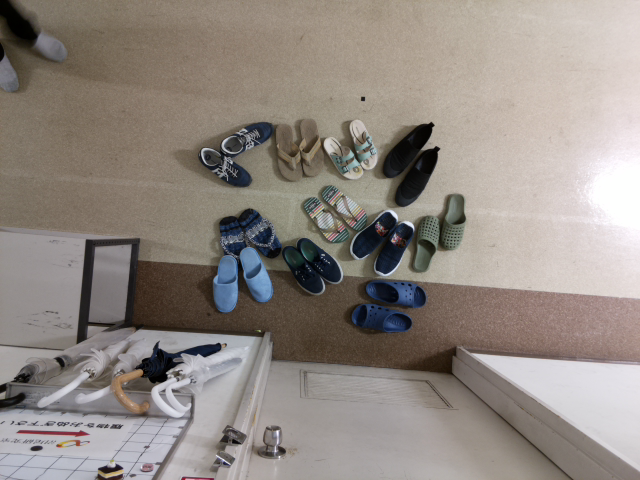Copy of Copy of Copy of Copy of Copy of Copy of Copy of Copy of Copy of Copy of: (346, 206, 399, 260), (281, 244, 329, 299), (234, 207, 284, 259), (371, 218, 415, 277), (297, 234, 344, 289), (302, 194, 352, 245), (318, 182, 367, 233), (362, 277, 429, 312), (348, 301, 415, 336), (238, 244, 275, 307), (207, 252, 243, 314), (214, 214, 251, 260)
Copy of Copy of Copy of Copy of Copy of Copy of Copy of Copy of Copy of shoe: (406, 214, 442, 276)
Copy of Copy of Copy of Copy of Copy of Copy of Copy of Copy of shoe: (434, 191, 470, 254)
Copy of Copy of Copy of Copy of Copy of Copy of Copy of shoe: (391, 143, 440, 210)
Copy of Copy of Copy of Copy of Copy of Copy of shoe: (380, 120, 436, 180)
Copy of Copy of Copy of Copy of Copy of shoe: (322, 134, 364, 180)
Copy of Copy of Copy of Copy of shoe: (347, 117, 381, 173)
Copy of Copy of Copy of shoe: (293, 114, 328, 182)
Copy of Copy of shoe: (271, 119, 305, 187)
Copy of foot: (6, 7, 72, 62)
Copy of shoe: (218, 118, 277, 159)
foot: (1, 50, 31, 98)
shoe: (190, 142, 254, 190)
